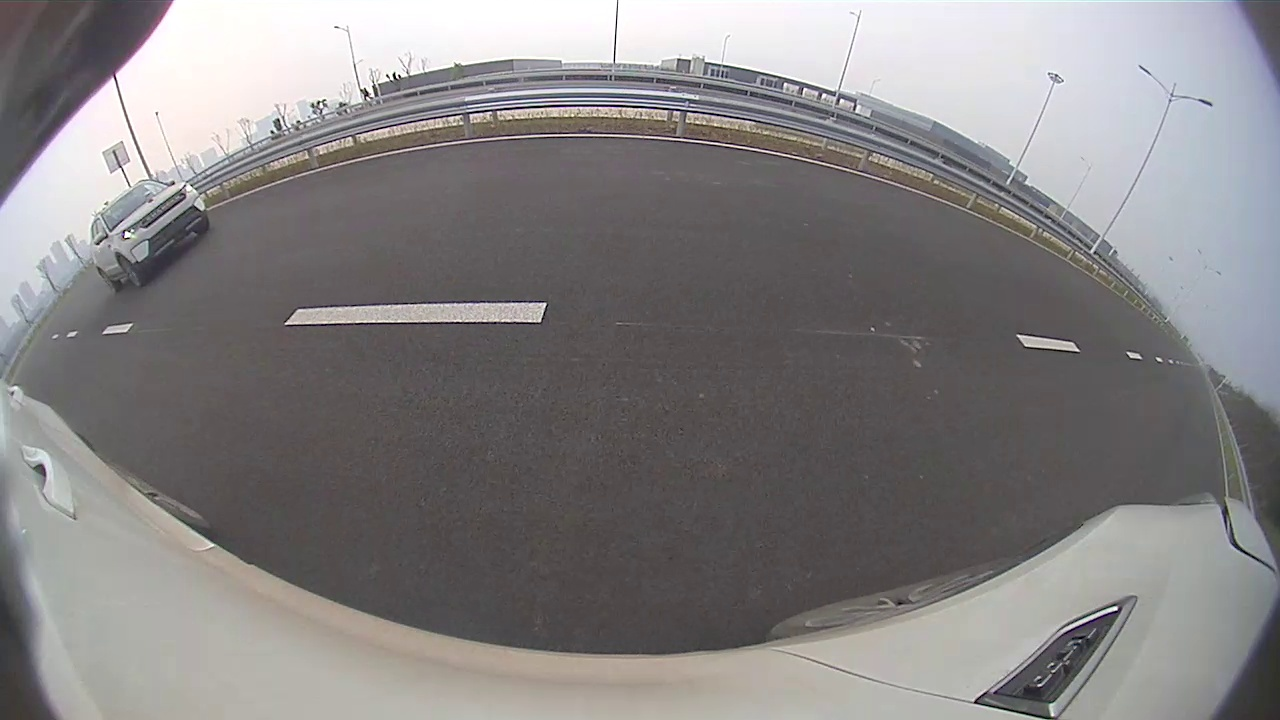car: (333, 146, 506, 251)
front: (487, 185, 506, 217)
rear: (426, 196, 455, 241)
